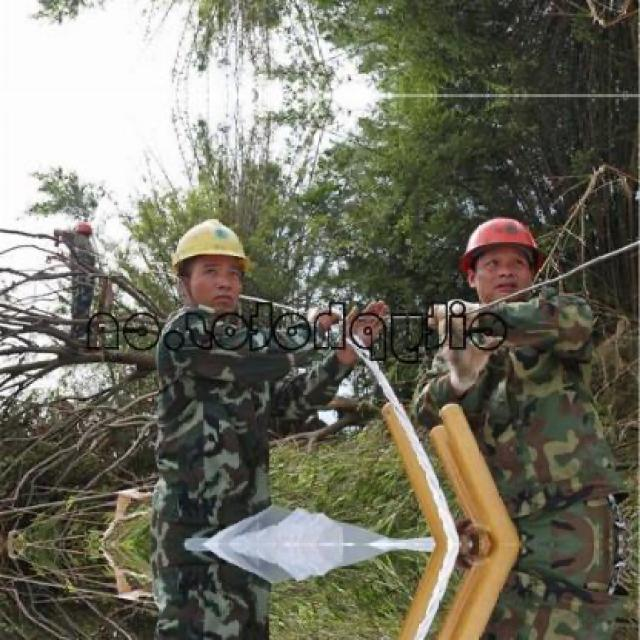helmet: (165, 210, 260, 314), (454, 208, 551, 308)
